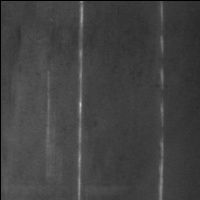scratches: (73, 2, 88, 200), (155, 2, 168, 200)
